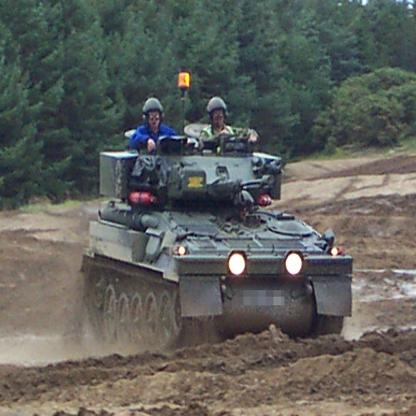Tank: (73, 129, 357, 360)
